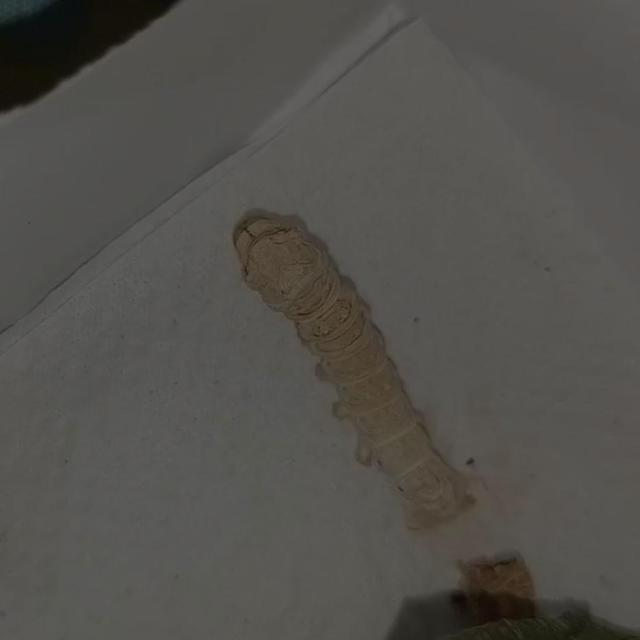Healthy: (208, 187, 510, 554)
